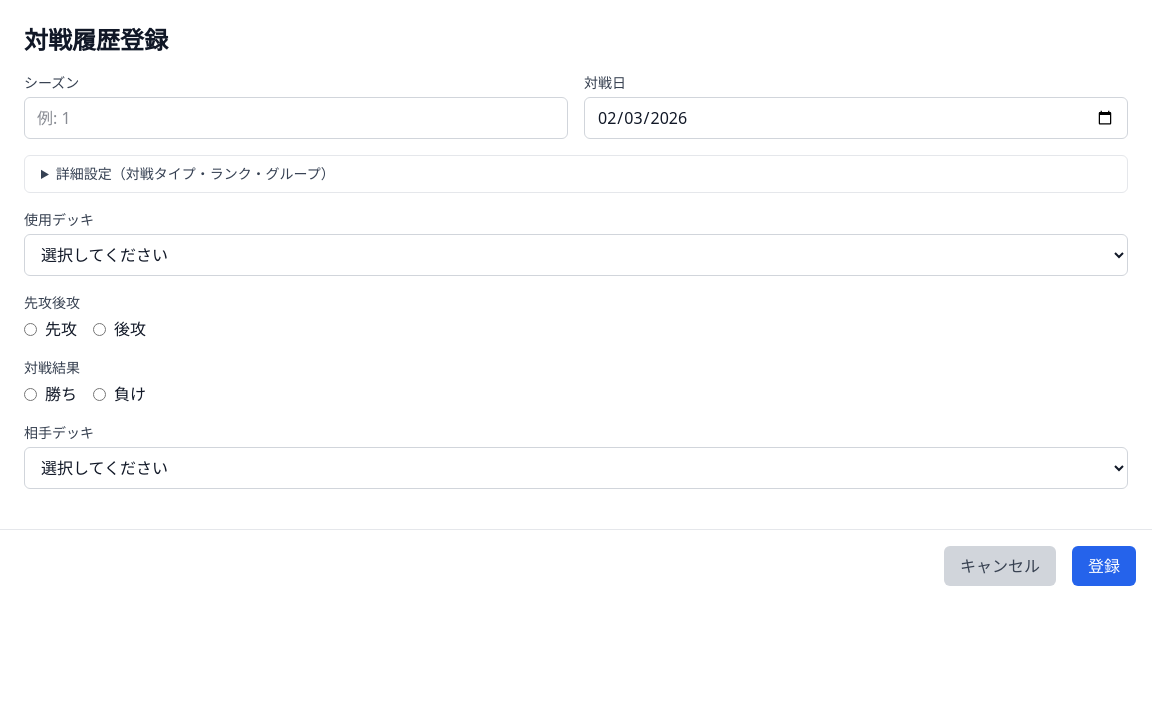
Test: BattleLogForm › レイアウト改善テスト (TASK-0031) › TC-0031-003: ランクとグループが同じグリッドコンテナ内にある
The width and height of the screenshot is (1152, 720).
Note: 【詳細設定を展開】: details要素をクリックして展開
Click the heading "詳細設定（対戦タイプ・ランク・グループ）".
click(195, 174)  # box [56,164,335,183]
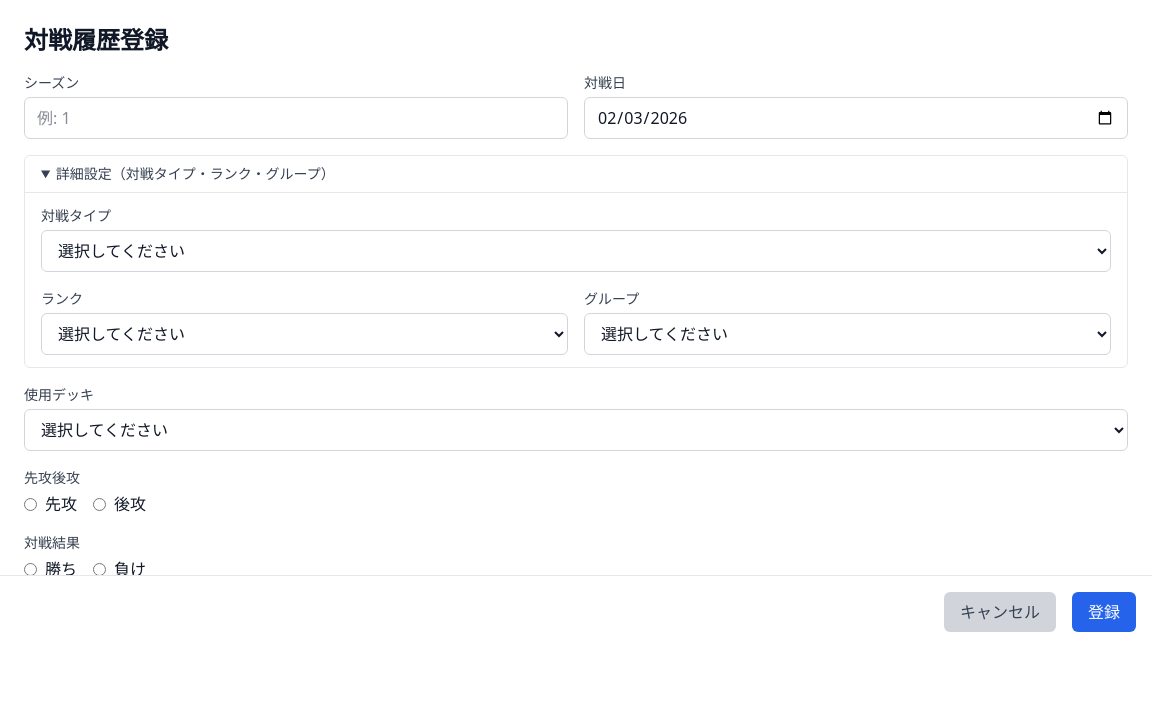
expect the element labelled "ランク" is shown: met, box [41,288,1111,355]
